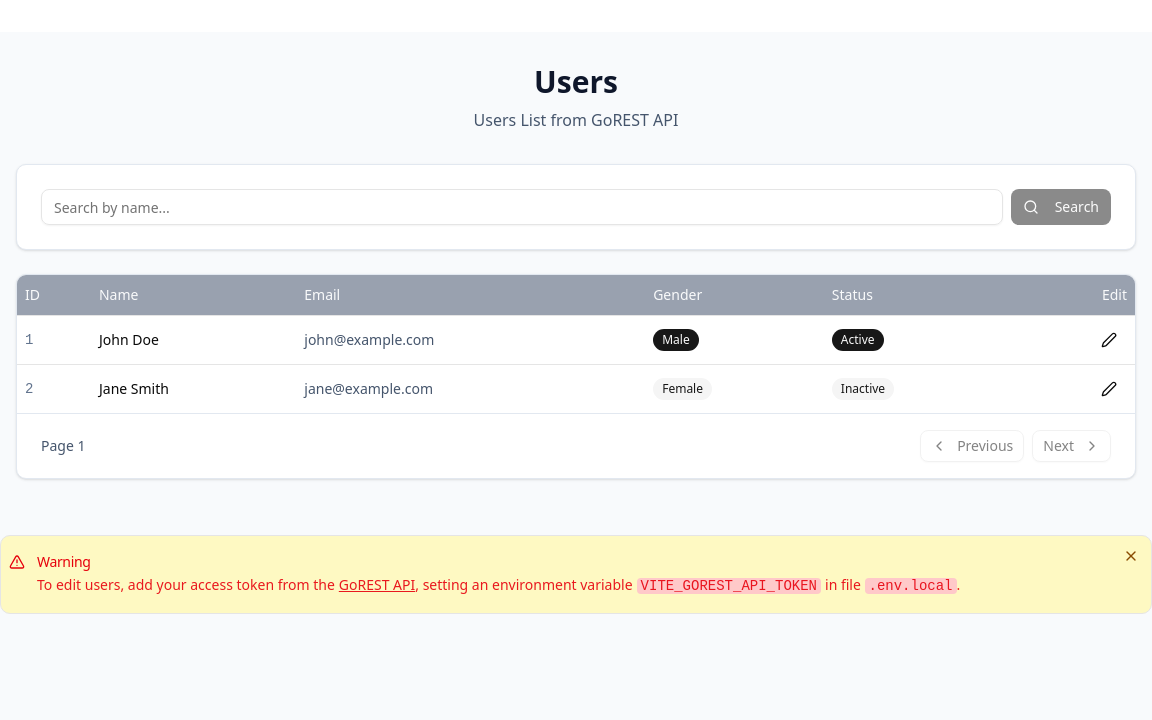
Scenario: Users › displays EditUser when editing a user
The image size is (1152, 720).
Expected: the table with test id "users-table" is shown, [17, 275, 1135, 412]
Click the button with test id "edit-user-button": {"x": 1109, "y": 340} [1091, 324, 1127, 356]
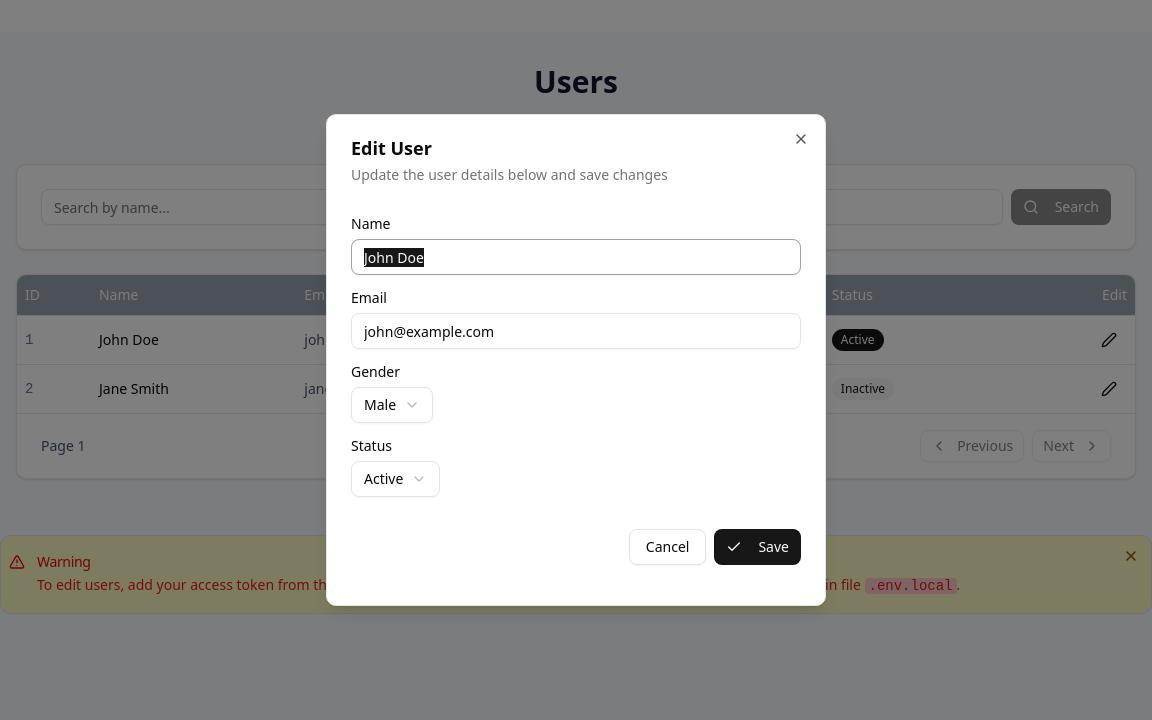
Expected: the text "Edit User" is shown, [351, 136, 432, 160]
